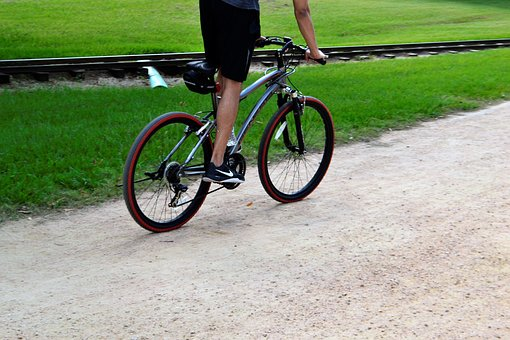bikerider: (115, 1, 347, 237)
